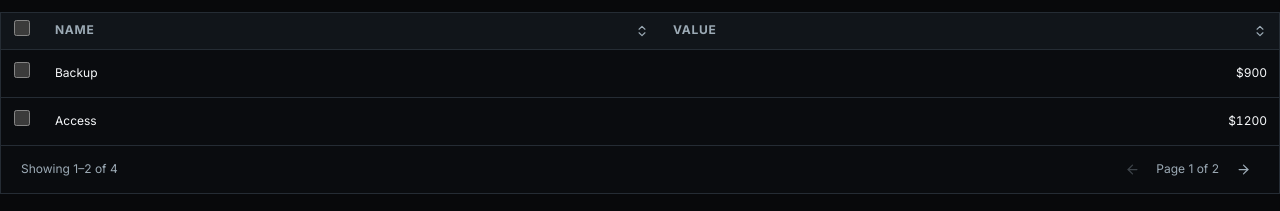
Test case: BfDataTable › sorts semantic rows and selects all visible rows
Step 1. Click the button "Name" → (75, 30), box [55,13,649,48]
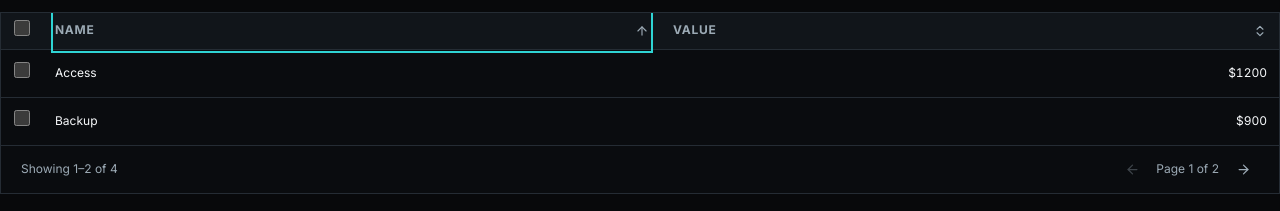
Expected: the row "Access $1200" is shown, [1,49,1279,97]
Expected: the column heading "Name" has attribute aria-sort="ascending", [43,13,661,49]
Step 2. Click the checkbox named "Select all visible rows" → (22, 28), box [14,20,30,36]
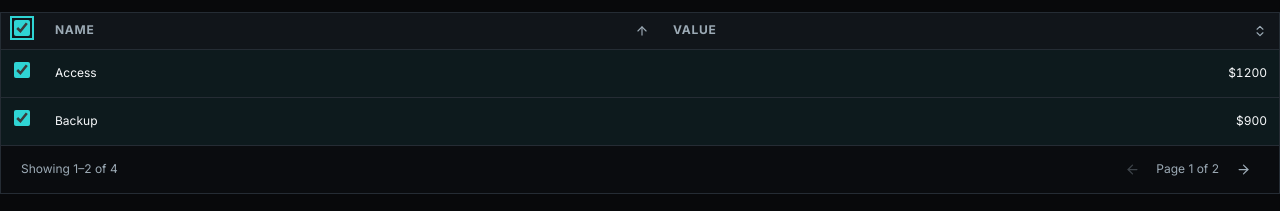
Expected: the checkbox named "Select row a" is checked, [14,62,30,78]
Expected: the checkbox named "Select row b" is checked, [14,110,30,126]
